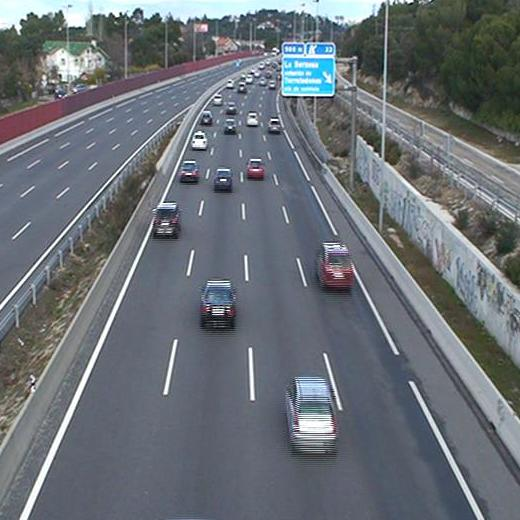car: (284, 376, 339, 451), (315, 240, 355, 287), (199, 279, 236, 324), (152, 201, 181, 235), (179, 160, 199, 179), (213, 168, 231, 187), (247, 158, 265, 176), (189, 130, 208, 147), (267, 118, 281, 132), (223, 119, 236, 132), (199, 111, 212, 124), (247, 111, 259, 124)
